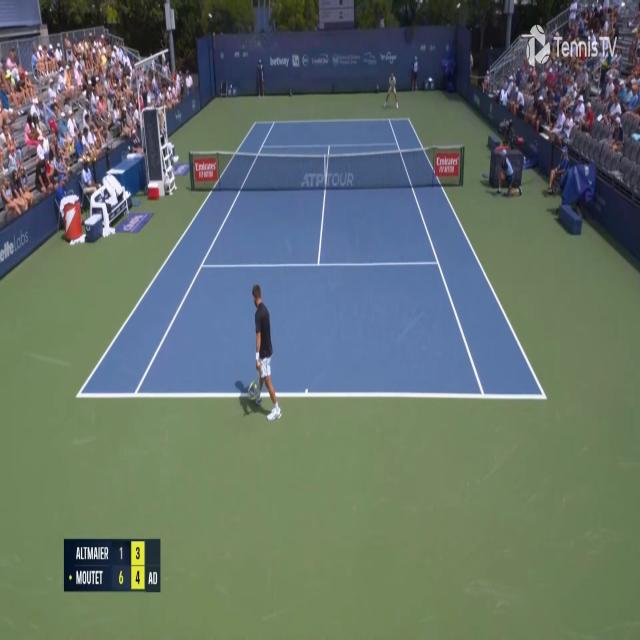tennis-player: (235, 279, 283, 426), (382, 74, 400, 110)
